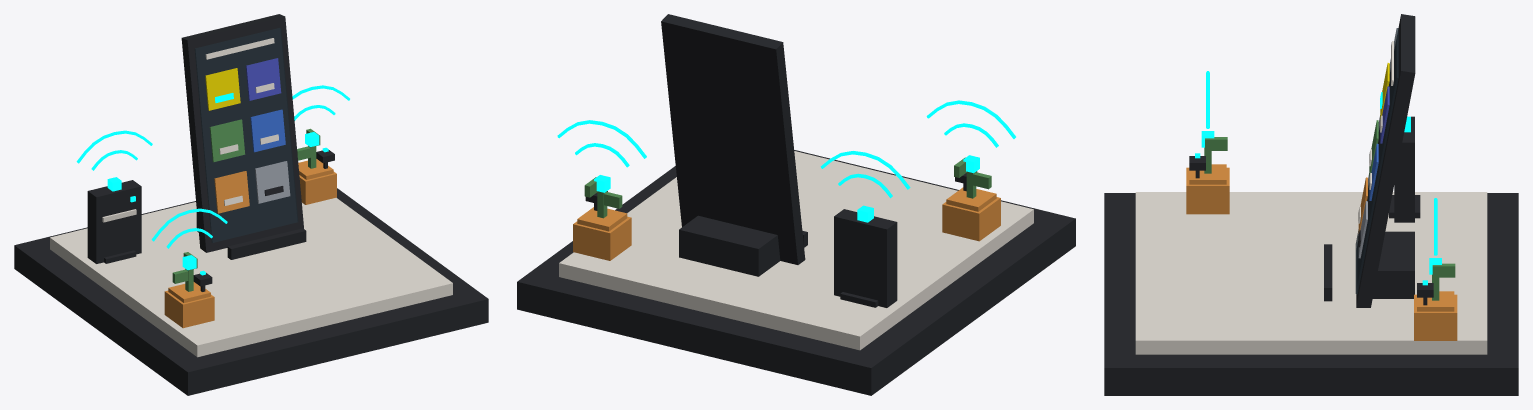
File: mobile_scene_mobile.glb
3 views of the same model, side by side, from view 1: azimuth 30°, elevation 25°; view 2: azimuth 150°, elevation 25°; view 3: azimuth 270°, elevation 25° (orthographic). The views are drawn at different scales.
Visible parts, largest first — view 1: PROP_plinth, HERO_mobile_phone, PROP_mobile_phone_screen, PROP_mobile_home_hub, PROP_iot_pot_a, PROP_iot_pot_b, PROP_mobile_stand, PROP_app_plantpulse, PROP_app_settings, PROP_app_messages, PROP_app_photos, PROP_app_ee (+3 smaller); view 2: PROP_plinth, HERO_mobile_phone, PROP_mobile_home_hub, PROP_mobile_stand, PROP_iot_pot_a, PROP_iot_pot_b, PROP_iot_plant_b, PROP_iot_plant_a; view 3: PROP_plinth, HERO_mobile_phone, PROP_mobile_stand, PROP_iot_pot_a, PROP_iot_pot_b, PROP_mobile_home_hub, PROP_mobile_phone_screen, PROP_iot_plant_b, PROP_iot_plant_a.
Part boxes in pixels (box(x1,y1,x2,y2)): PROP_plinth: box(14, 188, 488, 395); HERO_mobile_phone: box(181, 14, 303, 252); PROP_mobile_phone_screen: box(194, 27, 298, 242); PROP_mobile_home_hub: box(87, 180, 141, 263); PROP_iot_pot_a: box(164, 282, 214, 328); PROP_iot_pot_b: box(298, 159, 336, 204); PROP_mobile_stand: box(196, 212, 306, 259); PROP_app_plantpulse: box(209, 119, 245, 162); PROP_app_settings: box(255, 161, 290, 203); PROP_app_messages: box(250, 109, 285, 152); PROP_app_photos: box(214, 171, 249, 213); PROP_app_ee: box(205, 68, 240, 110); PROP_plinth: box(517, 150, 1075, 395); HERO_mobile_phone: box(661, 14, 805, 264); PROP_mobile_home_hub: box(834, 209, 897, 307); PROP_mobile_stand: box(679, 215, 807, 276); PROP_iot_pot_a: box(942, 187, 1000, 241); PROP_iot_pot_b: box(573, 207, 631, 260); PROP_iot_plant_b: box(584, 177, 622, 218); PROP_iot_plant_a: box(954, 157, 991, 198); PROP_plinth: box(1104, 192, 1518, 395); HERO_mobile_phone: box(1356, 14, 1415, 307); PROP_mobile_stand: box(1324, 231, 1414, 301); PROP_iot_pot_a: box(1186, 164, 1229, 214); PROP_iot_pot_b: box(1414, 291, 1457, 340); PROP_mobile_home_hub: box(1389, 116, 1420, 222); PROP_mobile_phone_screen: box(1355, 28, 1398, 294); PROP_iot_plant_b: box(1432, 263, 1455, 300); PROP_iot_plant_a: box(1204, 137, 1227, 173).
Bounding box in the file's own units: 4 × 2.98 × 4.
